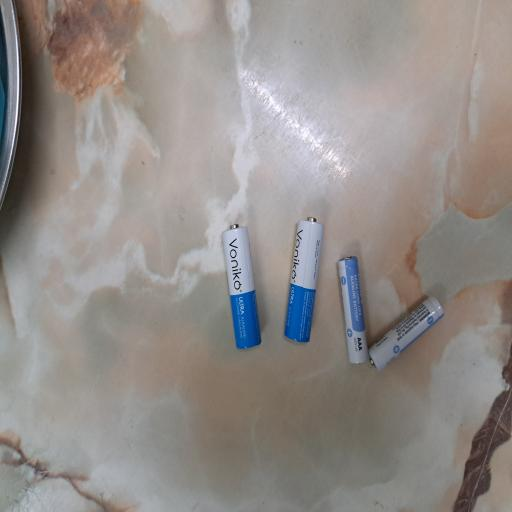battery: (368, 296, 445, 372), (220, 224, 262, 349), (284, 216, 323, 343), (338, 256, 368, 364)
